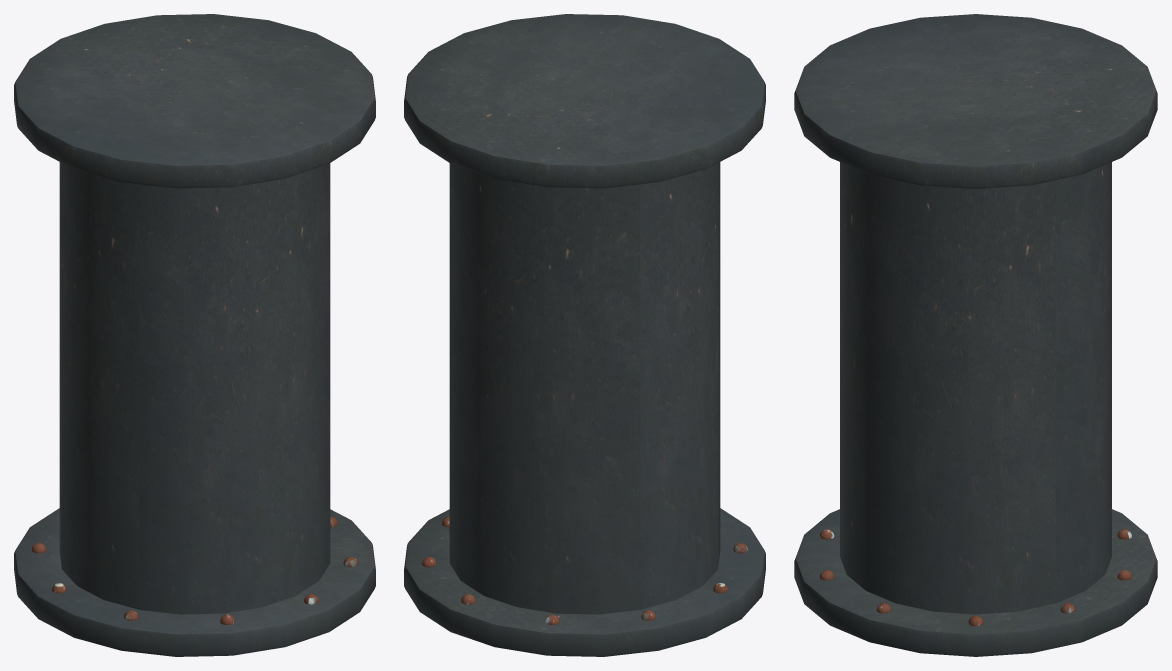
The model's file is Powerplant_Model_Environment_StraightPipeTextured.fbx.
The picture shows the model from 3 angles, left to right: view 1: azimuth 30°, elevation 25°; view 2: azimuth 150°, elevation 25°; view 3: azimuth 270°, elevation 25°; orthographic projection.
Visible parts, largest first — view 1: Pipe(Straight); view 2: Pipe(Straight); view 3: Pipe(Straight).
Boxes of the visible parts, x1=… form: Pipe(Straight): x1=14, y1=14, x2=375, y2=656; Pipe(Straight): x1=404, y1=14, x2=765, y2=656; Pipe(Straight): x1=794, y1=14, x2=1157, y2=656.
Bounding box in the file's own units: 48.15 × 72 × 48.15.
Materials: 2 (2 with a texture image).
